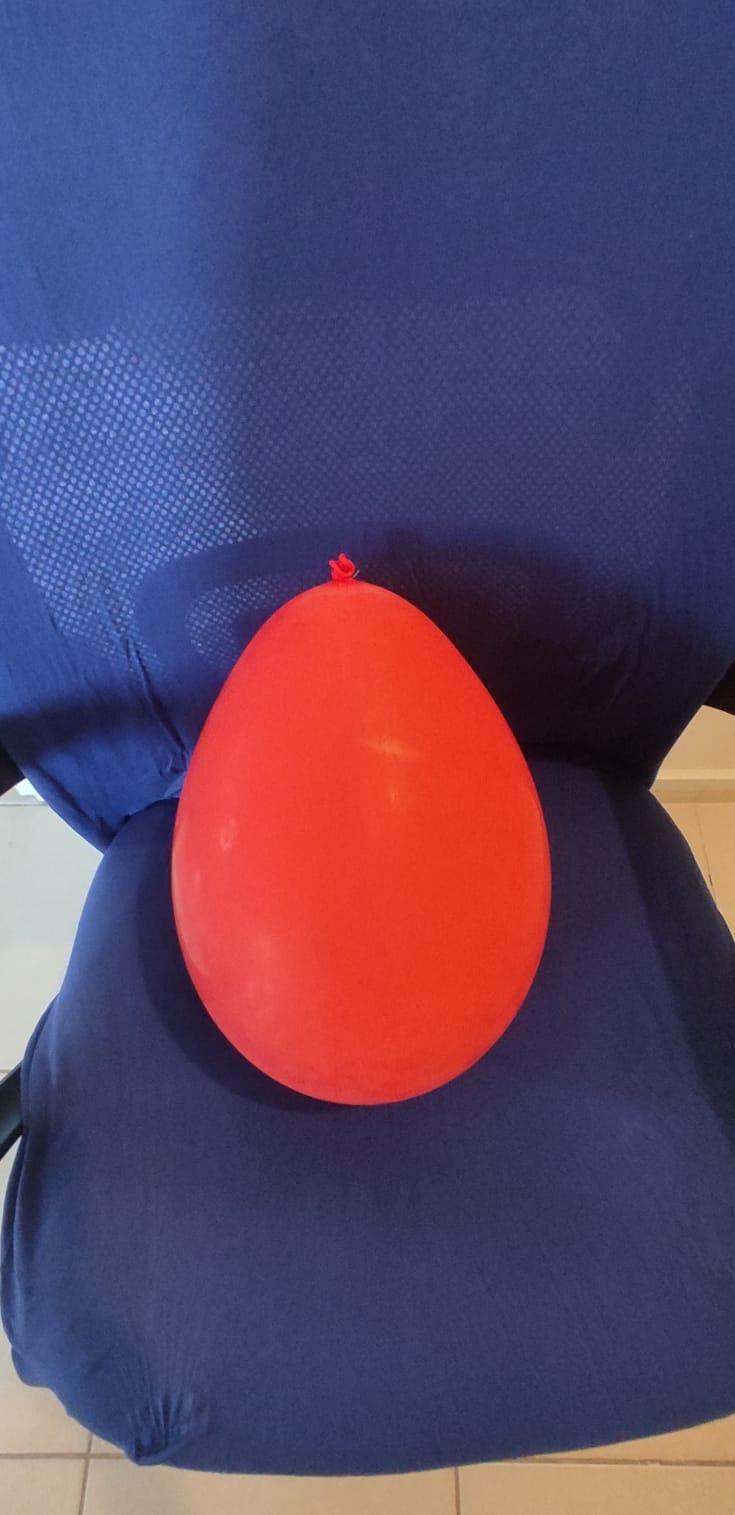red: (167, 547, 556, 1104)
